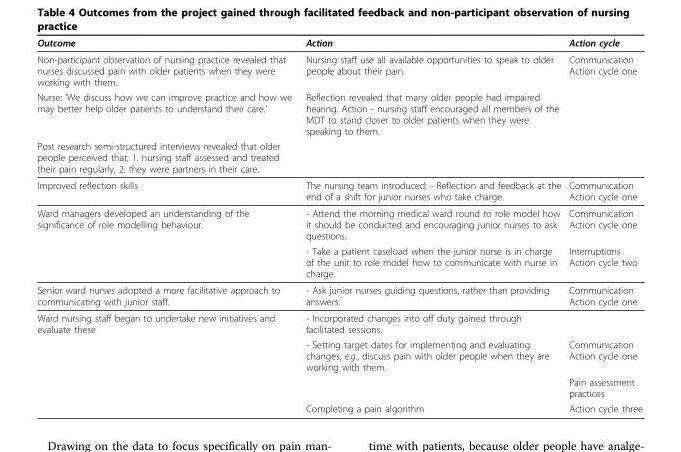table: (36, 36, 641, 413)
table column: (298, 36, 564, 413), (36, 36, 298, 413), (564, 36, 641, 413)
table column header: (36, 36, 641, 50)
table projected row header: (36, 138, 641, 176)
table row: (36, 89, 641, 138), (36, 50, 641, 89), (36, 204, 641, 243), (36, 138, 641, 176), (36, 243, 641, 281), (36, 336, 641, 374), (36, 176, 641, 204), (36, 281, 641, 309), (36, 309, 641, 336), (36, 374, 641, 400), (36, 36, 641, 50), (36, 400, 641, 413)
table spanning cell: (36, 309, 298, 413), (36, 204, 298, 281)
